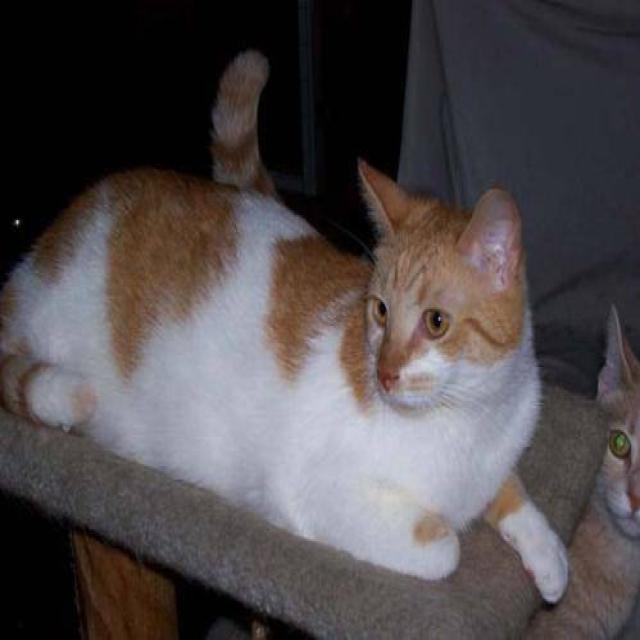cat: (0, 46, 569, 604)
